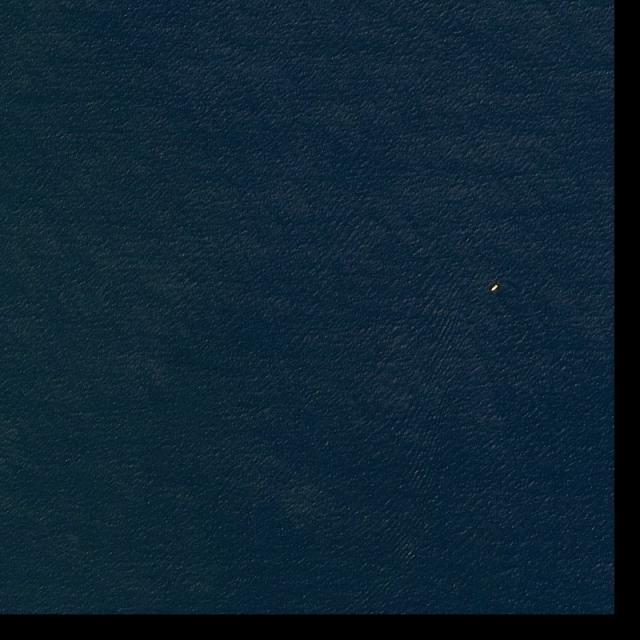ship: (490, 284, 499, 294)
